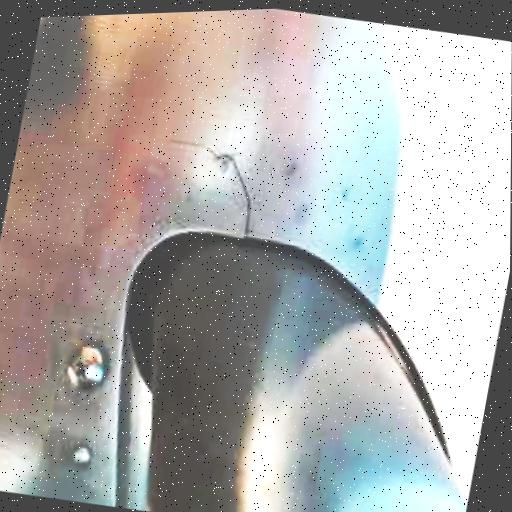crack: (160, 130, 275, 240)
